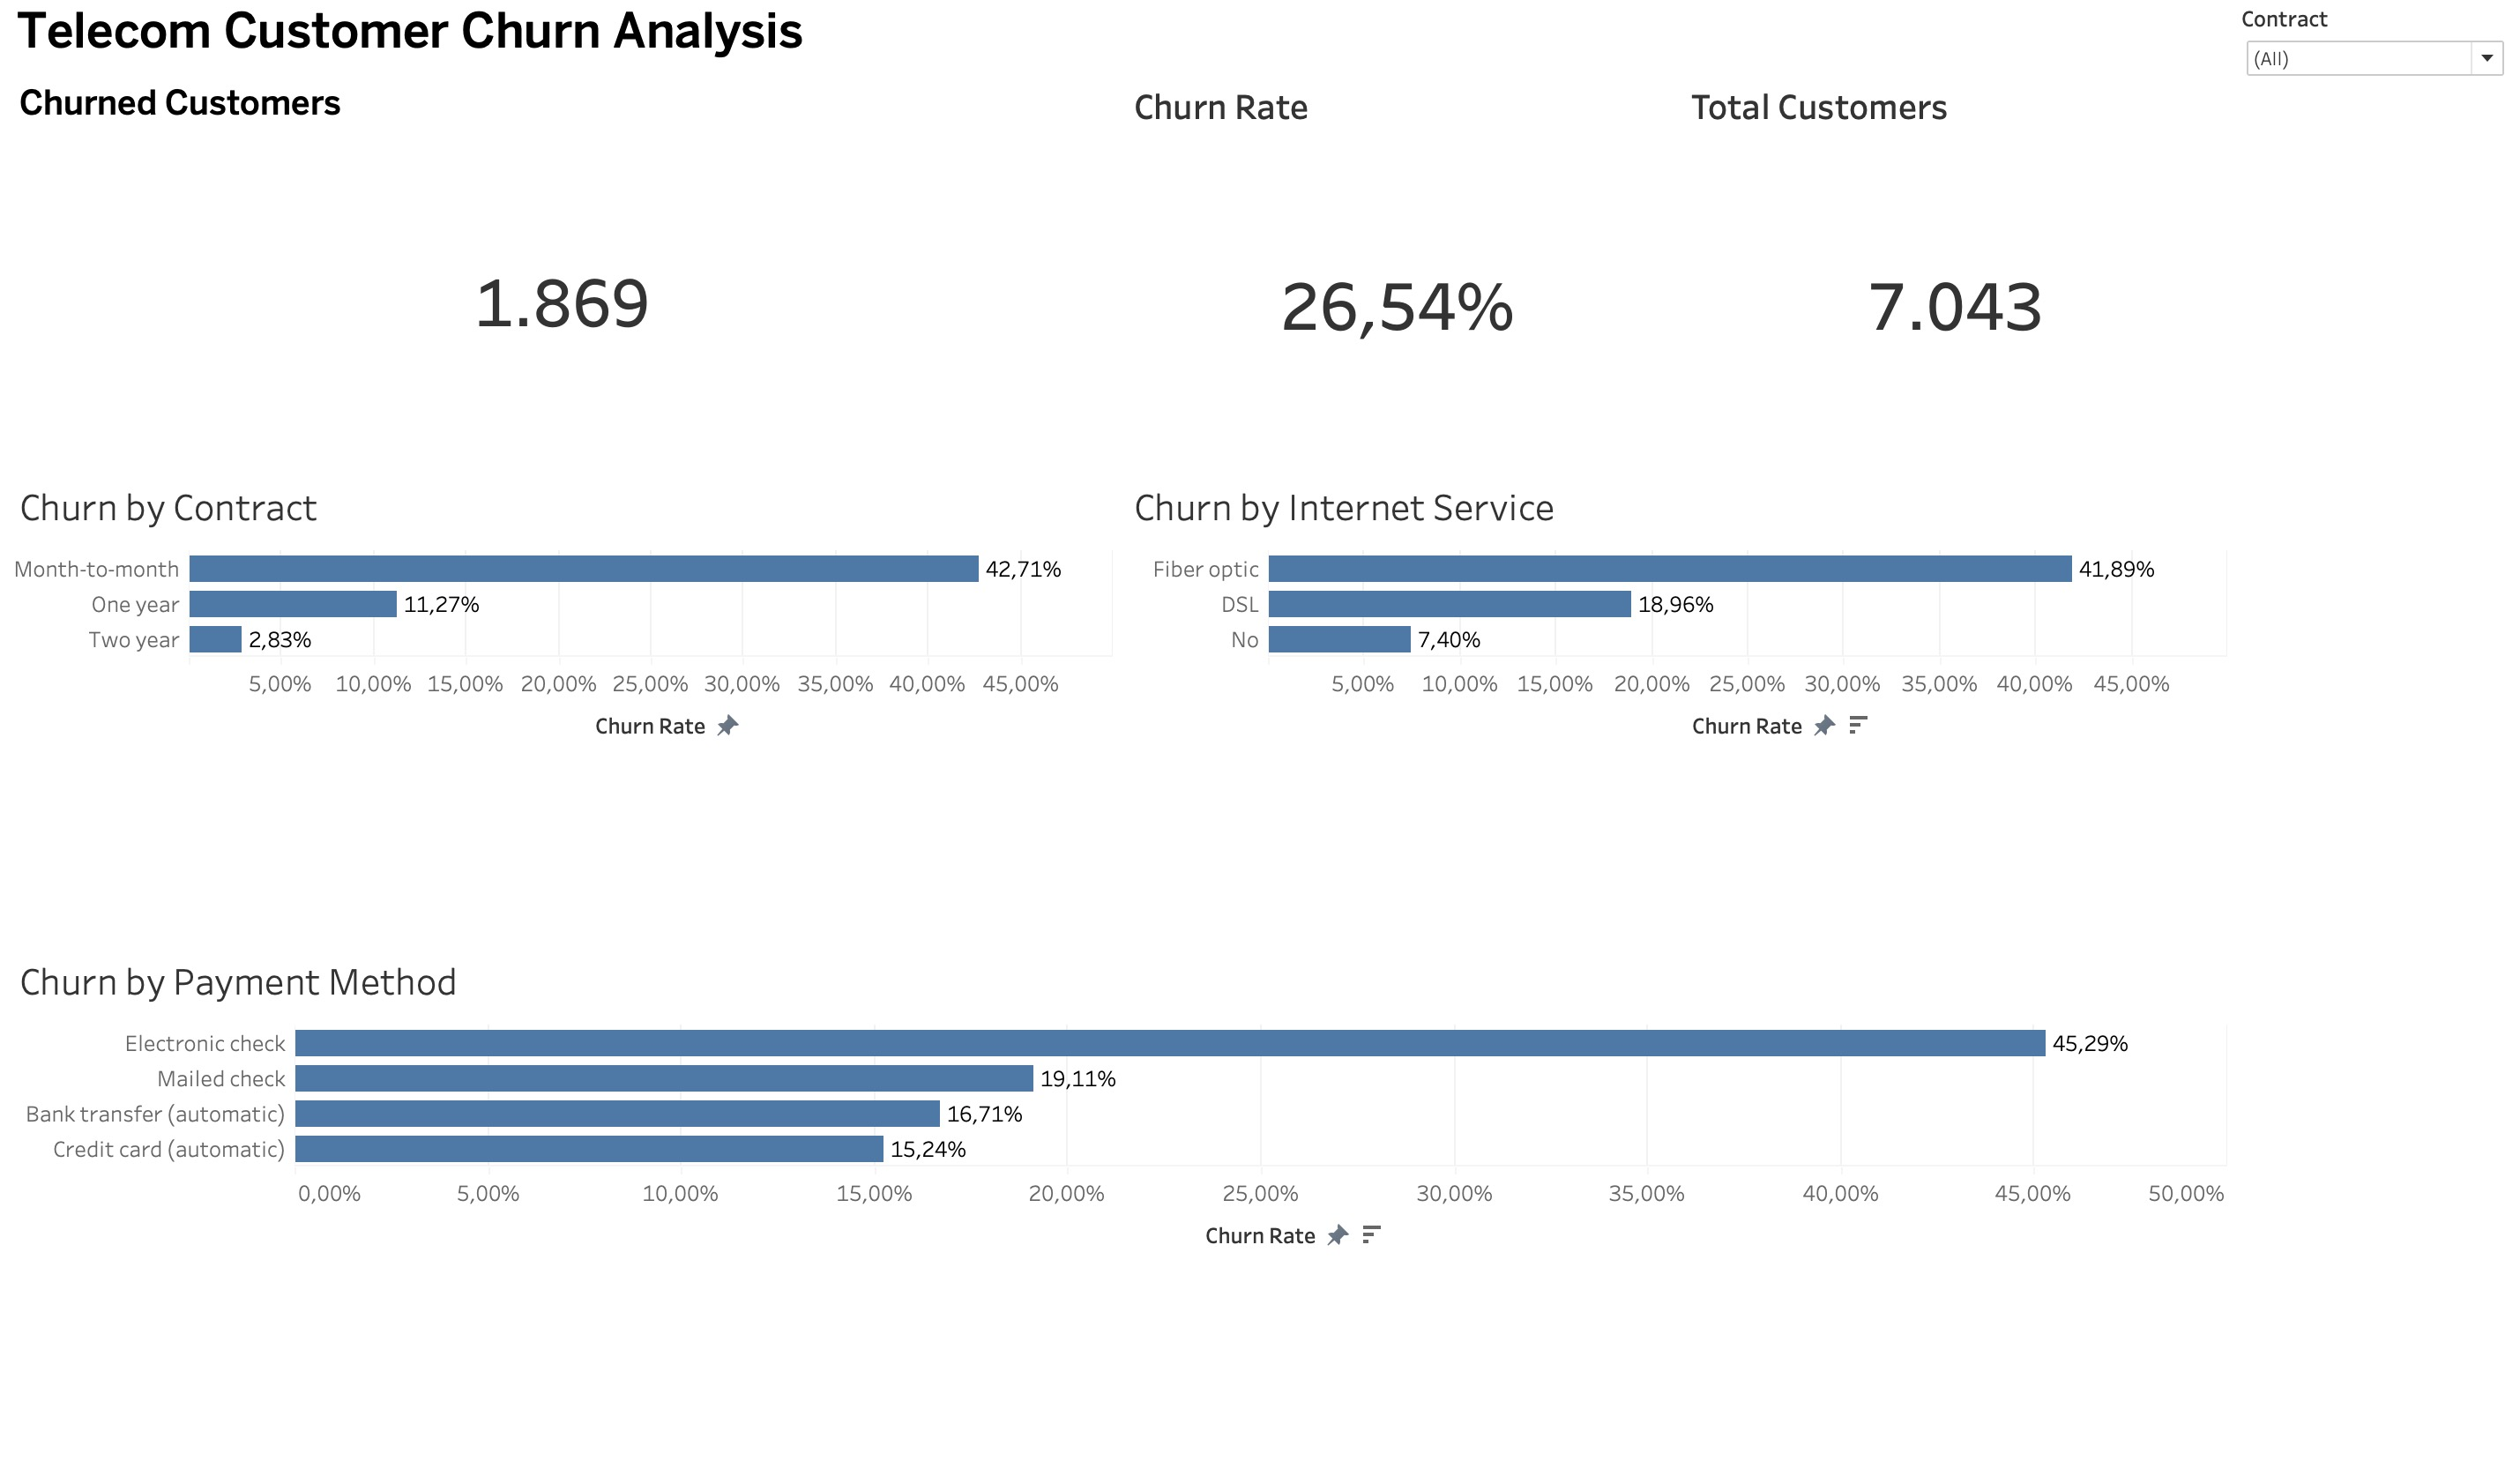

Layout of this report page (visuals, bound fields, positions):
{"tool":"tableau","page":{"name":"Customer Churn Dashboard","canvas":[1000,1000],"units":"permille","ordinal":0},"visuals":[{"type":"title","box":[6.5,11.4,856.8,58.4]},{"type":"filter","title":"Churn by Contract","param":"[federated.10dyoch1b0lahy16xxt1o148547r].[none:Contract:nk]","box":[863.3,11.4,130.2,74.1]},{"type":"worksheet","title":"Churned Customers","mark":"Automatic","box":[6.5,69.8,428.4,255.8]},{"type":"worksheet","title":"Churn Rate","mark":"Automatic","box":[434.9,69.8,214.2,255.8]},{"type":"worksheet","title":"Total Customers","mark":"Automatic","box":[649.1,69.8,214.2,255.8]},{"type":"worksheet","title":"Churn by Contract","mark":"Bar","rows":["Contract"],"cols":["Calculation_0095159510282240"],"box":[6.5,325.6,428.4,304]},{"type":"worksheet","title":"Churn by Internet Service","mark":"Bar","rows":["InternetService"],"cols":["Calculation_0095159510282240"],"box":[434.9,325.6,428.4,304]},{"type":"worksheet","title":"Churn by Payment Method","mark":"Bar","rows":["PaymentMethod"],"cols":["Calculation_0095159510282240"],"box":[6.5,629.6,856.8,359]}]}

Visuals, with their boxes on the dashboard's canvas, which has no fixed pixel size, in thousandths of its width and height (x1, y1, x2, y2). These are canvas units, not pixel positions in the 2520x1476 screenshot, which may show the page scaled, cropped or inside an application window:
title: <box>6,11,863,70</box>
"Churn by Contract" filter: <box>863,11,994,86</box>
"Churned Customers" worksheet: <box>6,70,435,326</box>
"Churn Rate" worksheet: <box>435,70,649,326</box>
"Total Customers" worksheet: <box>649,70,863,326</box>
"Churn by Contract" worksheet (Bar marks): <box>6,326,435,630</box>
"Churn by Internet Service" worksheet (Bar marks): <box>435,326,863,630</box>
"Churn by Payment Method" worksheet (Bar marks): <box>6,630,863,989</box>
